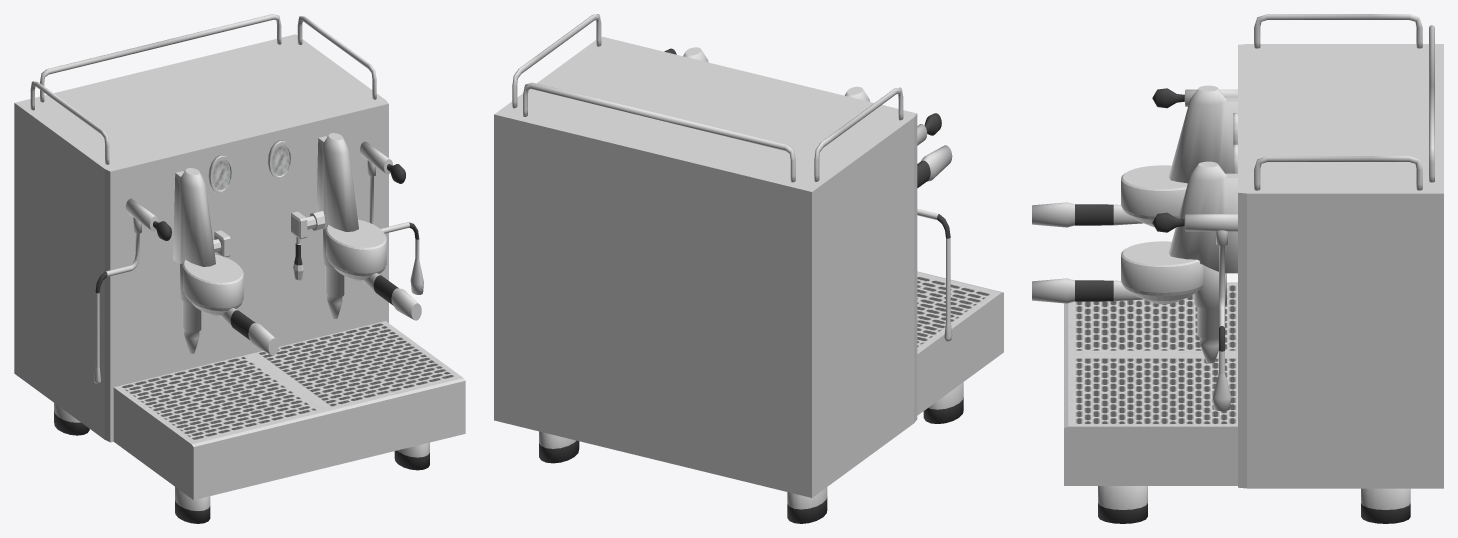
The model's file is sh-scopia-coffee-machine.glb.
The picture shows the model from 3 angles, left to right: view 1: azimuth 30°, elevation 25°; view 2: azimuth 150°, elevation 25°; view 3: azimuth 270°, elevation 25°; orthographic projection. The views are drawn at different scales.
Visible parts, largest first — view 1: coffee_machine; view 2: coffee_machine; view 3: coffee_machine.
Boxes of the visible parts, box(x1,y1,x2,y2) form: coffee_machine: box(14, 14, 465, 523); coffee_machine: box(494, 14, 1003, 523); coffee_machine: box(1032, 14, 1443, 523).
Bounding box in the file's own units: 1 × 1 × 1.
Materials: 2 (1 with a texture image).
